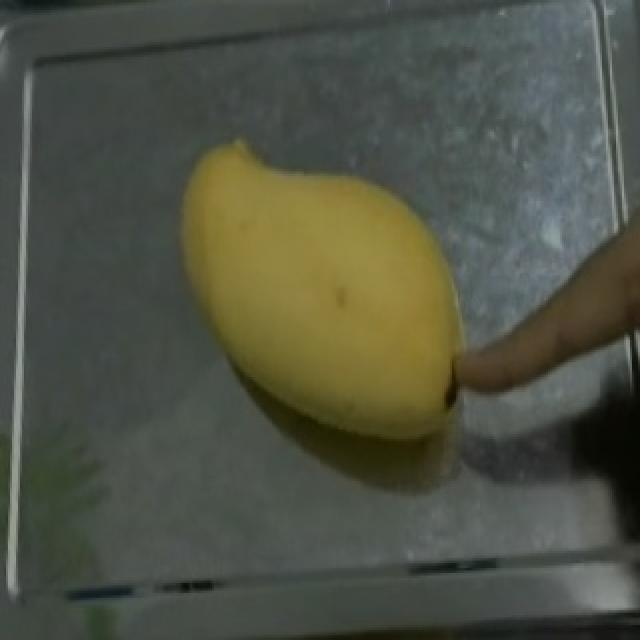fruit: (156, 131, 506, 474)
